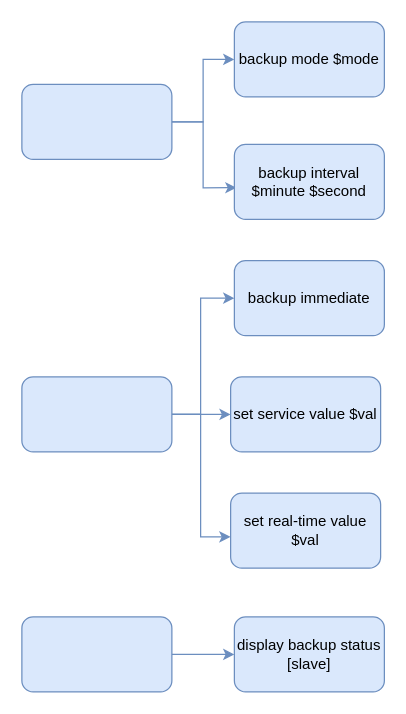
Image size: 406x714. Some labels were removed from this diagram. The centre of each missing label's shape, as x and y in pixels:
"查询命令" goes at point (96, 654).
"维护命令" goes at point (96, 414).
"配置命令" goes at point (96, 121).
